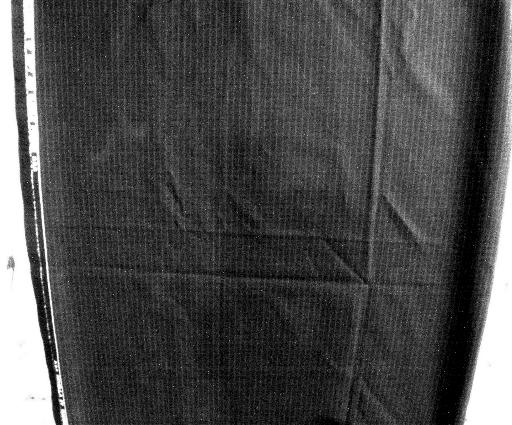fabric_perfect: (6, 0, 509, 425)
